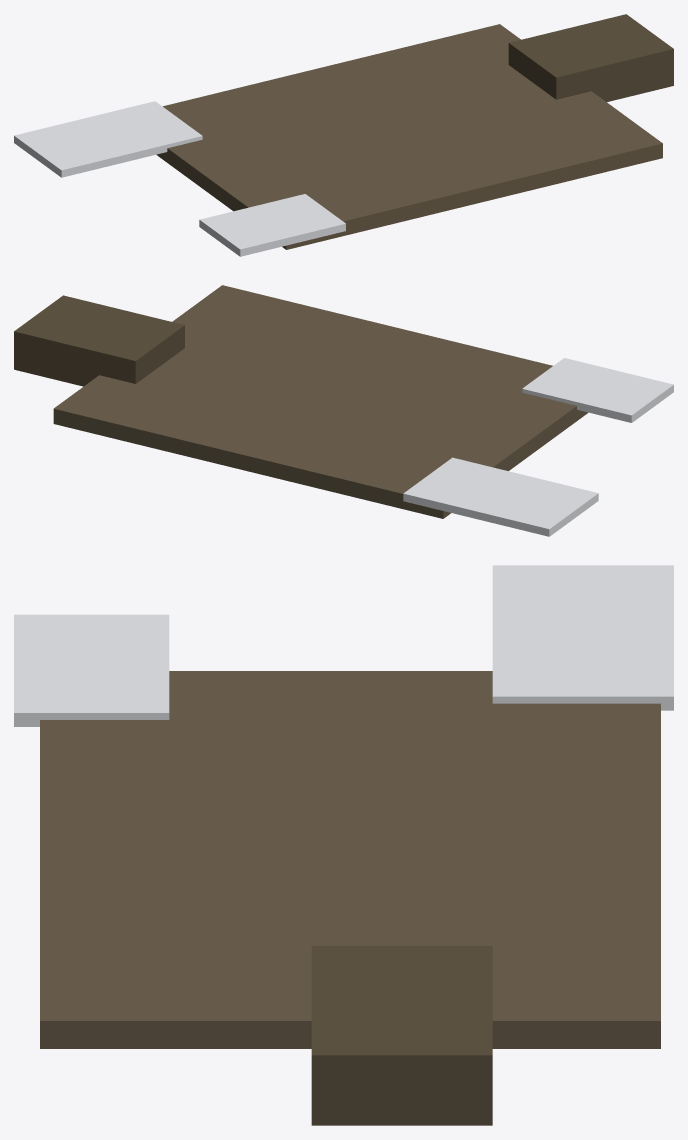
File: city_pit_grave.glb
The picture shows the model from 3 angles, top to bottom: view 1: azimuth 30°, elevation 25°; view 2: azimuth 150°, elevation 25°; view 3: azimuth 270°, elevation 25°; orthographic projection. The views are drawn at different scales.
Visible parts, largest first — view 1: city_pit_grave; view 2: city_pit_grave; view 3: city_pit_grave.
Part boxes in pixels (box(x1,y1,x2,y2)): city_pit_grave: box(14, 14, 673, 256); city_pit_grave: box(14, 285, 673, 536); city_pit_grave: box(14, 565, 673, 1125).
Size of the model in its own units: 4.8 by 0.305 by 2.55.
